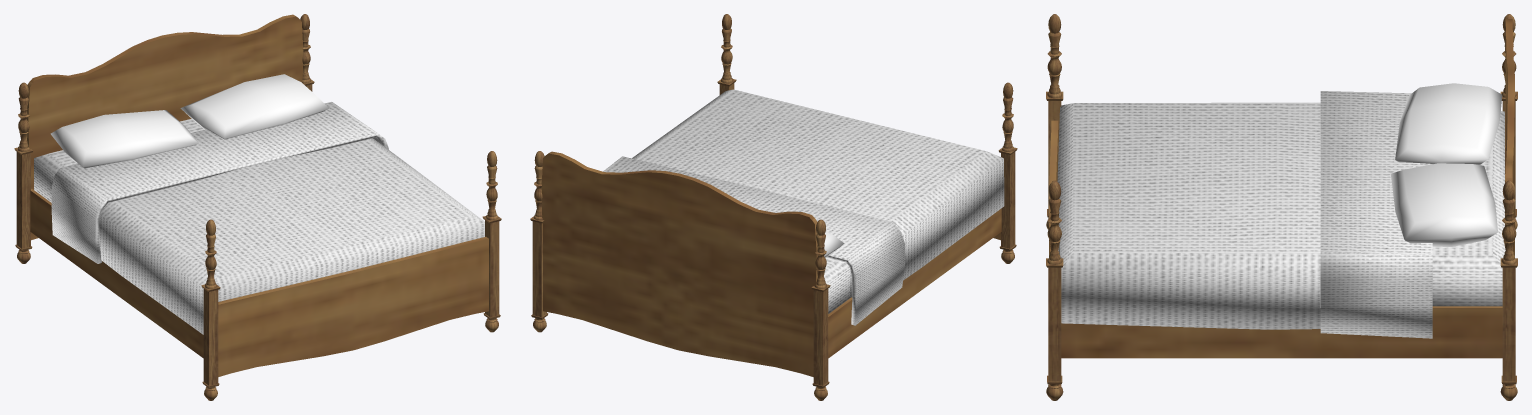
The model's file is OldBed.fbx.
3 views of the same model, side by side, from view 1: azimuth 30°, elevation 25°; view 2: azimuth 150°, elevation 25°; view 3: azimuth 270°, elevation 25° (orthographic). The views are drawn at different scales.
Visible parts, largest first — view 1: Cube.009, Cube.010, Cube.014, Cube.013, Circle.002, Cube.012; view 2: Cube.009, Cube.010, Cube.014, Circle.002, Cube.012; view 3: Cube.010, Cube.014, Cube.009, Cube.013, Circle.002, Cube.012.
Boxes of the visible parts, x1,y1,x2,y2 form: Cube.009: (27, 14, 488, 376); Cube.010: (98, 138, 484, 334); Cube.014: (51, 102, 388, 263); Cube.013: (50, 74, 329, 168); Circle.002: (14, 14, 501, 400); Cube.012: (34, 118, 204, 202); Cube.009: (541, 151, 1001, 376); Cube.010: (632, 89, 1004, 297); Cube.014: (603, 156, 905, 325); Circle.002: (530, 14, 1017, 400); Cube.012: (824, 257, 849, 313); Cube.010: (1057, 102, 1320, 329); Cube.014: (1320, 91, 1432, 338); Cube.009: (1049, 19, 1514, 358); Cube.013: (1391, 83, 1502, 246); Circle.002: (1046, 14, 1517, 400); Cube.012: (1432, 111, 1504, 306).
Size of the model in its own units: 77.64 by 48.2 by 88.67.
